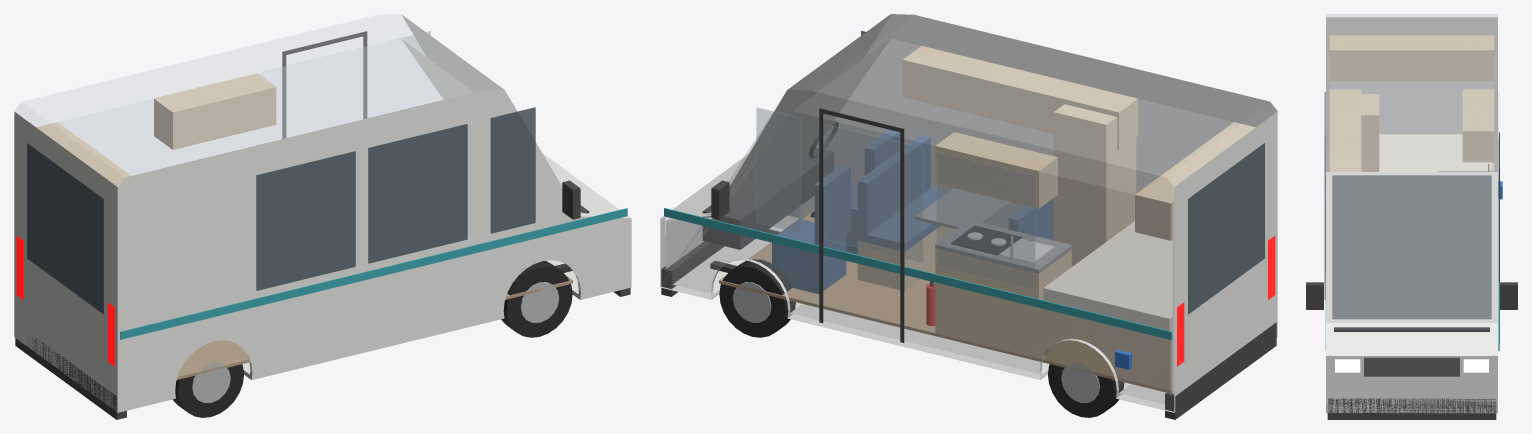
Rendered from tata_winger-highroof_3488wb.glb.
3 renders of one model, left to right at view 1: azimuth 30°, elevation 25°; view 2: azimuth 150°, elevation 25°; view 3: azimuth 270°, elevation 25°, orthographic. The views are drawn at different scales.
Visible parts, largest first — view 1: Body_Shell, Body_Cutaway_LeftWall_Roof, Window_Right_0, Window_Right_1, Window_Rear, Storage_Overhead_Left_Kitchen, Window_Cab_Right, Stripe_Right, Wheel_Front_R_Tyre, Bumper_Rear, Storage_Overhead_Rear, Wheel_Rear_R_Tyre (+4 smaller); view 2: Body_Cutaway_LeftWall_Roof, Body_Shell, Window_Left_1, Window_Left_0, Storage_Overhead_Right, Storage_Wardrobe_Tall, Window_Rear, Bed_Mattress_Double, Kitchen_Base_Cabinets, Storage_Overhead_Left_Kitchen, Bed_Platform_Fixed_Rear, Floor_Living (+25 smaller); view 3: Body_Shell, Body_Cutaway_LeftWall_Roof, Windscreen, Storage_Overhead_Rear, Bumper_Front, Bed_Mattress_Double, Storage_Overhead_Right, Storage_Overhead_Left_Kitchen, Grille, Storage_Wardrobe_Tall, Dashboard, Mirror_L (+5 smaller).
Part boxes in pixels (x1,y1,x2,y2): Body_Shell: [14, 14, 631, 412]; Body_Cutaway_LeftWall_Roof: [14, 14, 503, 186]; Window_Right_0: [368, 124, 467, 263]; Window_Right_1: [256, 151, 355, 290]; Window_Rear: [27, 143, 103, 314]; Storage_Overhead_Left_Kitchen: [154, 73, 276, 149]; Window_Cab_Right: [490, 107, 535, 233]; Stripe_Right: [120, 208, 627, 339]; Wheel_Front_R_Tyre: [501, 260, 572, 337]; Bumper_Rear: [15, 336, 126, 419]; Storage_Overhead_Rear: [36, 122, 130, 186]; Wheel_Rear_R_Tyre: [172, 364, 243, 417]; Body_Cutaway_LeftWall_Roof: [661, 14, 1276, 411]; Body_Shell: [660, 14, 1277, 412]; Window_Left_1: [936, 151, 1035, 290]; Window_Left_0: [824, 124, 923, 263]; Storage_Overhead_Right: [902, 46, 1137, 149]; Storage_Wardrobe_Tall: [1053, 104, 1136, 266]; Window_Rear: [1188, 143, 1264, 314]; Bed_Mattress_Double: [1043, 221, 1172, 331]; Kitchen_Base_Cabinets: [935, 249, 1071, 358]; Storage_Overhead_Left_Kitchen: [935, 132, 1057, 208]; Bed_Platform_Fixed_Rear: [1039, 308, 1172, 390]; Floor_Living: [719, 211, 1172, 393]; Body_Shell: [1326, 17, 1497, 413]; Body_Cutaway_LeftWall_Roof: [1326, 14, 1497, 171]; Windscreen: [1332, 175, 1491, 319]; Storage_Overhead_Rear: [1329, 35, 1494, 81]; Bumper_Front: [1327, 398, 1496, 419]; Bed_Mattress_Double: [1379, 134, 1491, 171]; Storage_Overhead_Right: [1329, 89, 1361, 171]; Storage_Overhead_Left_Kitchen: [1462, 89, 1494, 162]; Grille: [1364, 357, 1459, 376]; Storage_Wardrobe_Tall: [1361, 94, 1379, 171]; Dashboard: [1334, 327, 1489, 331]; Mirror_L: [1500, 282, 1517, 309].
Size of the model in its own units: 5.47 by 2.67 by 2.35.
